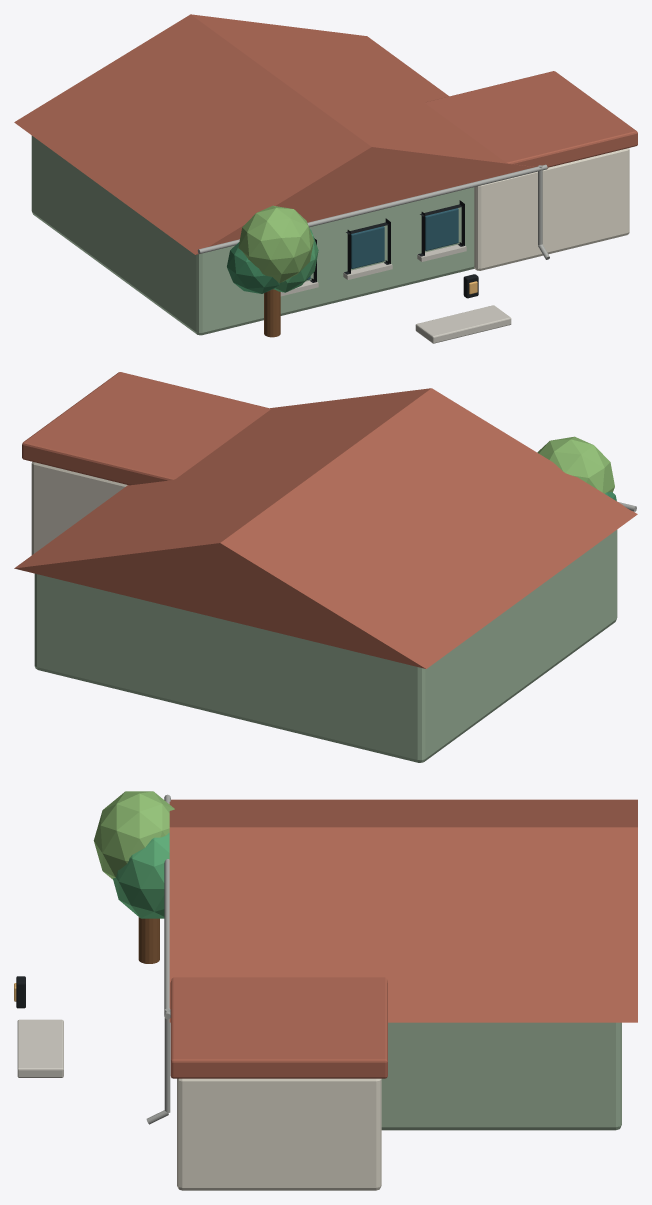
Rendered from RES_LUX_2x2_003.glb.
3 views of the same model, one above another, from view 1: azimuth 30°, elevation 25°; view 2: azimuth 150°, elevation 25°; view 3: azimuth 270°, elevation 25° (orthographic). The views are drawn at different scales.
Visible parts, largest first — view 1: RES_LUX_2x2_003_Visual; view 2: RES_LUX_2x2_003_Visual; view 3: RES_LUX_2x2_003_Visual.
Boxes of the visible parts, left/top/right/bottom form: RES_LUX_2x2_003_Visual: left=14, top=14, right=637, bottom=343; RES_LUX_2x2_003_Visual: left=14, top=372, right=637, bottom=762; RES_LUX_2x2_003_Visual: left=14, top=791, right=637, bottom=1190.
Size of what is drawn, in the model's own units: 3.72 by 1.24 by 3.5.
